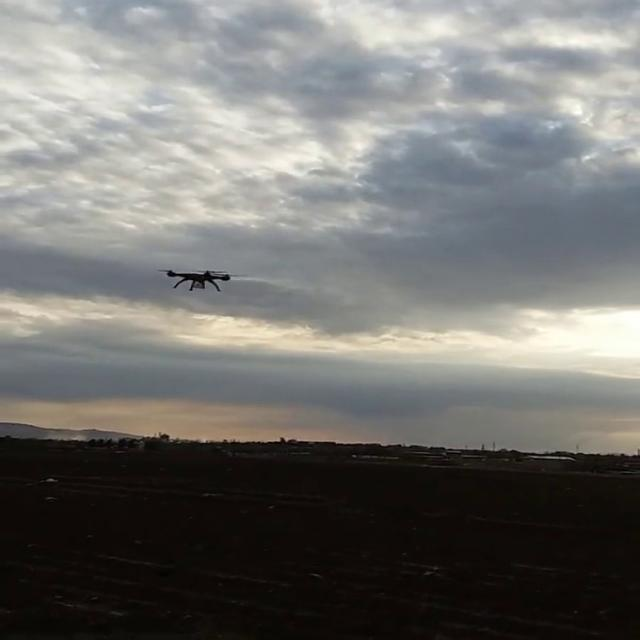drone: (156, 262, 242, 294)
